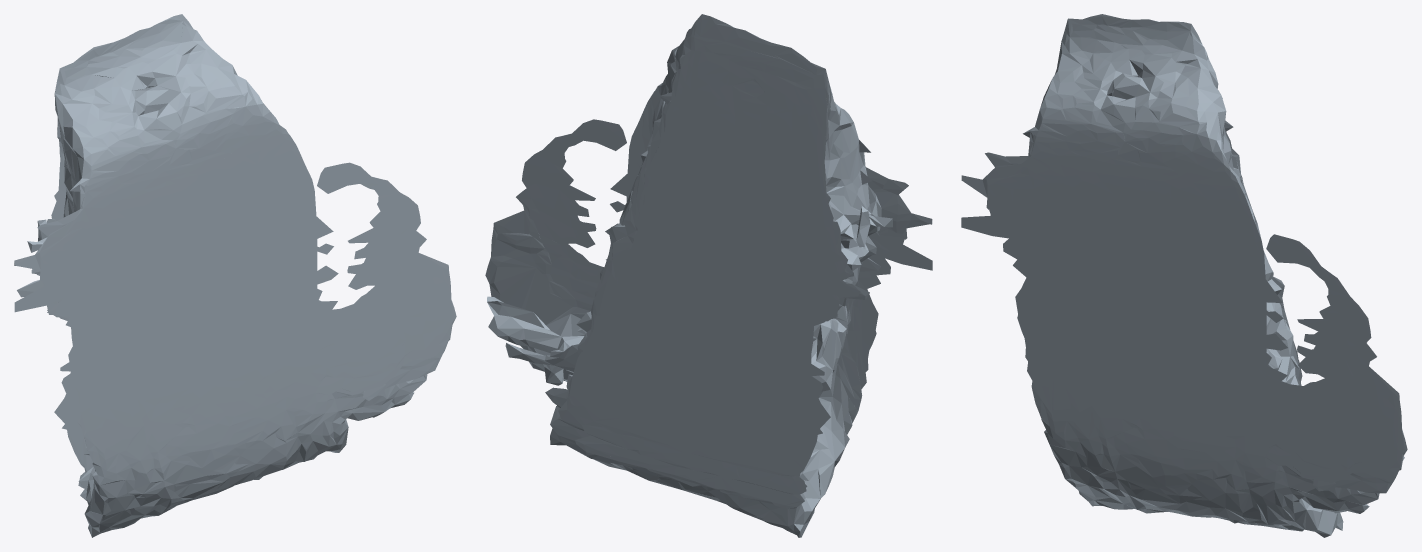
Rendered from improved.glb.
3 renders of one model, left to right at view 1: azimuth 30°, elevation 25°; view 2: azimuth 150°, elevation 25°; view 3: azimuth 330°, elevation 25°, orthographic.
Parts seen in each view (by area): view 1: world; view 2: world; view 3: world.
Part boxes in pixels (box(x1,y1,x2,y2)): world: box(14, 14, 456, 537); world: box(485, 14, 932, 537); world: box(961, 14, 1407, 537).
Size of the model in its own units: 0.45 by 0.4843 by 0.054.
